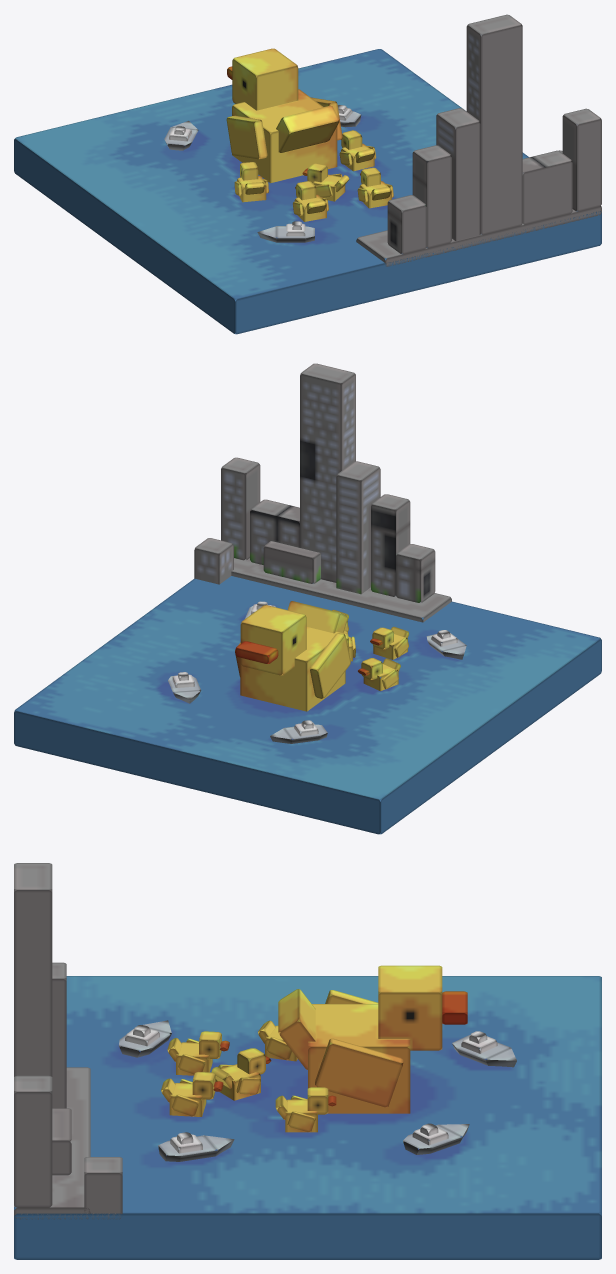
Rendered from Ducks.fbx.
The picture shows the model from 3 angles, top to bottom: view 1: azimuth 30°, elevation 25°; view 2: azimuth 150°, elevation 25°; view 3: azimuth 270°, elevation 25°; orthographic projection. The views are drawn at different scales.
Parts seen in each view (by area): view 1: cuboid_36, cuboid_44, cuboid_45, cuboid, cuboid_2, cuboid_42, cuboid_43, cuboid_46, cuboid_41, cuboid_47, cuboid_1, cuboid_4 (+2 smaller); view 2: cuboid_36, cuboid_44, cuboid_45, cuboid, cuboid_41, cuboid_2, cuboid_46, cuboid_42, cuboid_43, cuboid_47, cuboid_49, cuboid_4 (+4 smaller); view 3: cuboid_36, cuboid_44, cuboid, cuboid_2, cuboid_42, cuboid_5, cuboid_41, cuboid_48, cuboid_45, cuboid_1, cuboid_49, cuboid_37 (+12 smaller).
Boxes of the visible parts, x1=… form: cuboid_36: x1=14, y1=49, x2=601, y2=334; cuboid_44: x1=466, y1=14, x2=522, y2=234; cuboid_45: x1=436, y1=108, x2=480, y2=240; cuboid: x1=232, y1=89, x2=337, y2=183; cuboid_2: x1=232, y1=48, x2=298, y2=110; cuboid_42: x1=562, y1=108, x2=601, y2=211; cuboid_43: x1=522, y1=150, x2=572, y2=224; cuboid_46: x1=412, y1=145, x2=451, y2=248; cuboid_41: x1=356, y1=206, x2=601, y2=266; cuboid_47: x1=387, y1=195, x2=426, y2=254; cuboid_1: x1=276, y1=105, x2=339, y2=152; cuboid_4: x1=226, y1=115, x2=267, y2=159; cuboid_36: x1=14, y1=576, x2=601, y2=834; cuboid_44: x1=300, y1=363, x2=355, y2=582; cuboid_45: x1=336, y1=461, x2=380, y2=594; cuboid: x1=240, y1=627, x2=345, y2=711; cuboid_41: x1=231, y1=558, x2=451, y2=622; cuboid_2: x1=240, y1=605, x2=306, y2=675; cuboid_46: x1=371, y1=494, x2=410, y2=596; cuboid_42: x1=221, y1=457, x2=260, y2=560; cuboid_43: x1=250, y1=499, x2=299, y2=564; cuboid_47: x1=396, y1=544, x2=435, y2=602; cuboid_49: x1=263, y1=541, x2=320, y2=583; cuboid_4: x1=310, y1=633, x2=350, y2=698; cuboid_36: x1=14, y1=976, x2=601, y2=1259; cuboid_44: x1=14, y1=863, x2=52, y2=1076; cuboid: x1=308, y1=1004, x2=410, y2=1113; cuboid_2: x1=378, y1=965, x2=442, y2=1050; cuboid_42: x1=14, y1=1075, x2=52, y2=1207; cuboid_5: x1=315, y1=1038, x2=403, y2=1107; cuboid_41: x1=14, y1=1067, x2=90, y2=1219; cuboid_48: x1=84, y1=1157, x2=122, y2=1219; cuboid_45: x1=52, y1=962, x2=66, y2=1108; cuboid_1: x1=278, y1=989, x2=315, y2=1069; cuboid_49: x1=52, y1=1108, x2=71, y2=1175; cuboid_37: x1=158, y1=1135, x2=234, y2=1161.
Bounding box in the file's own units: 550 × 344 × 575.
Materials: 1 (1 with a texture image).
